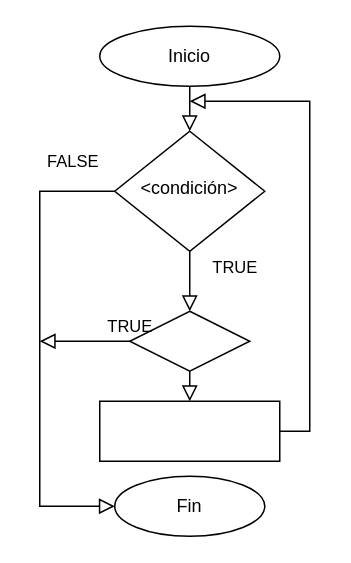
Some shapes in this 351 by 563 pixel diagram are drawn without their labels. Each missing label, with the box of its shape:
Bloque de instrucciones: (98, 400, 280, 461)
break: (128, 310, 250, 371)
